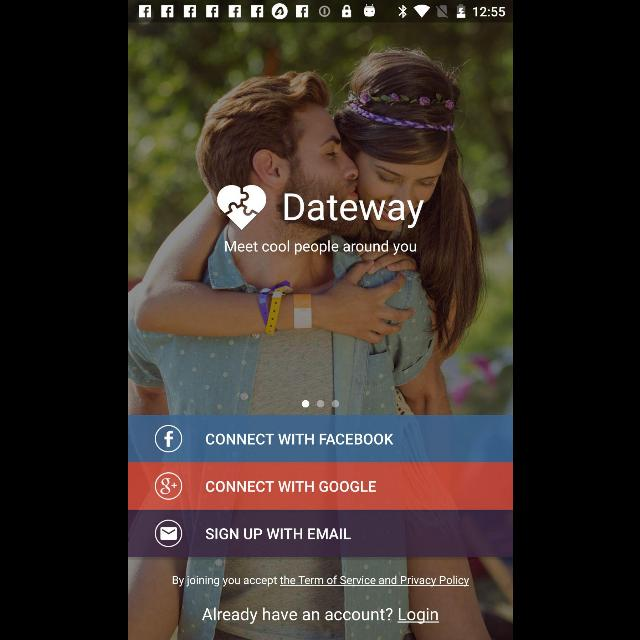backgroundimage: (128, 22, 512, 640)
image: (217, 185, 266, 231)
pageindicator: (301, 400, 339, 408)
text: (283, 193, 423, 229), (202, 606, 438, 624), (224, 240, 416, 256), (172, 576, 468, 586)
textbutton: (128, 462, 512, 510), (128, 510, 512, 558), (128, 416, 512, 462)
uppertaskbar: (128, 1, 512, 23)
